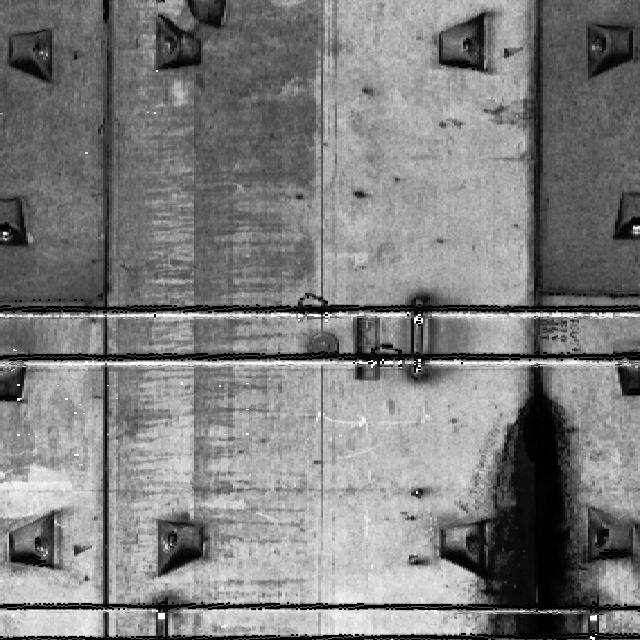leakage: (482, 372, 585, 638)
